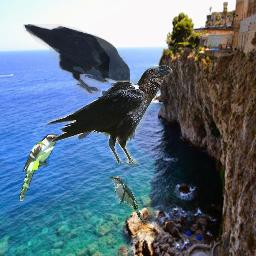Crow: (45, 65, 173, 164), (23, 24, 130, 97)
Cuckoo: (19, 134, 63, 201), (109, 176, 145, 223)
